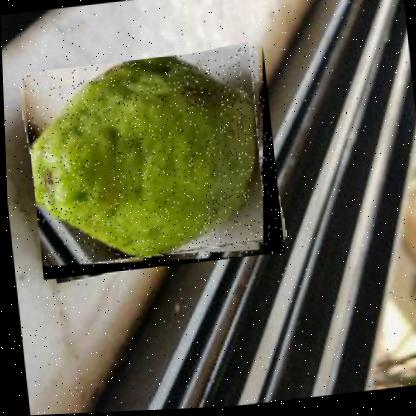guava: (19, 47, 282, 281)
